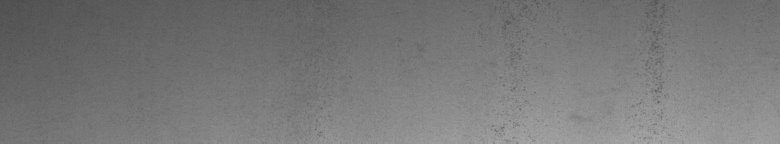ib: (491, 4, 668, 135)
